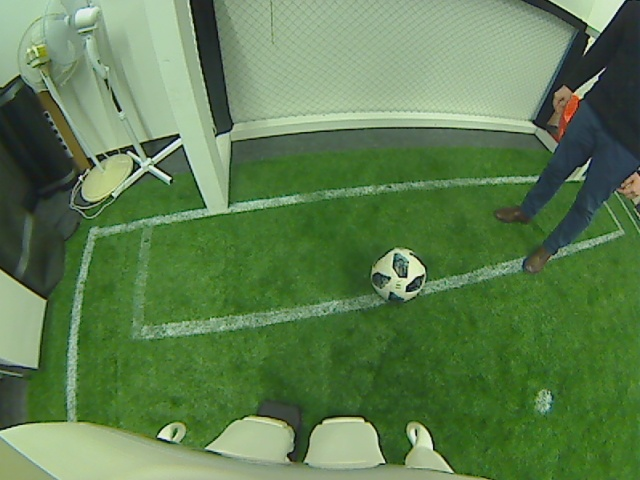ball: (367, 244, 427, 305)
